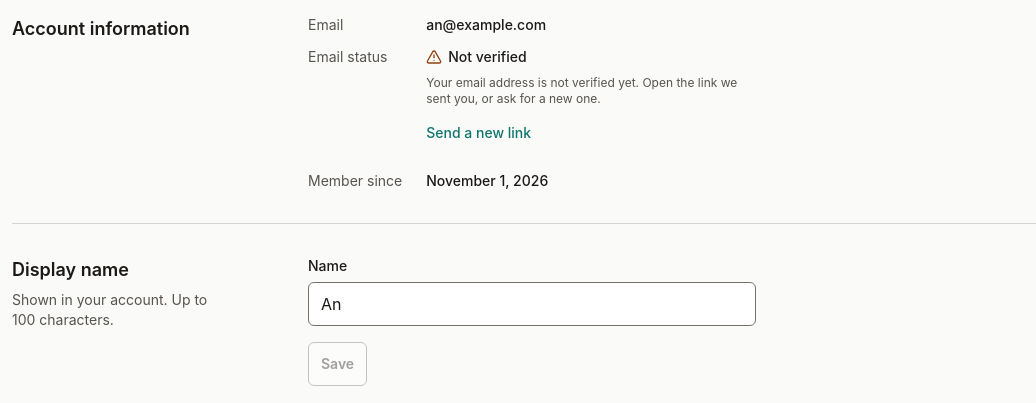
Test: Profile › shows the account, flags an unverified address, and saves a new name
Check: the text "an@example.com" is shown, box [426,16,546,33]
Check: the text "Not verified" is shown, box [426,48,527,65]
Replace the text in the field labelled "Name" with "  An Nguyen " at (532, 304), box [308,282,756,326]
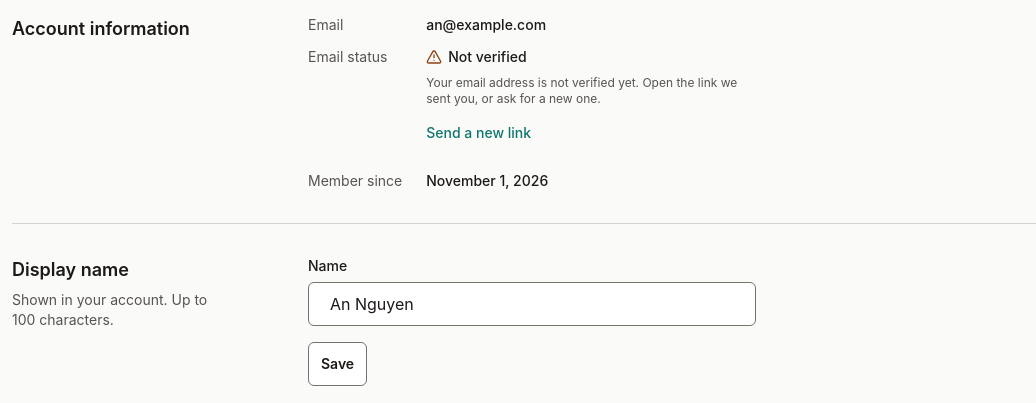
Click the button "Save" at (338, 364), box [308,342,367,386]
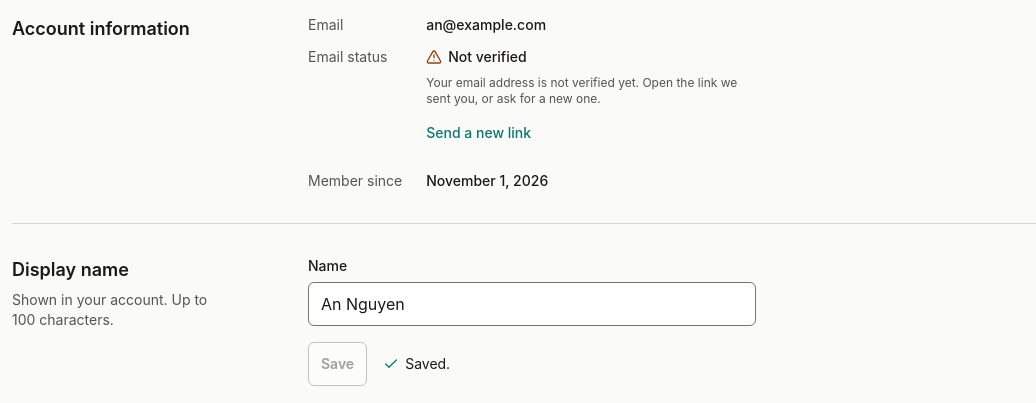
Check: the text "Saved." is shown, box [383,354,450,374]
